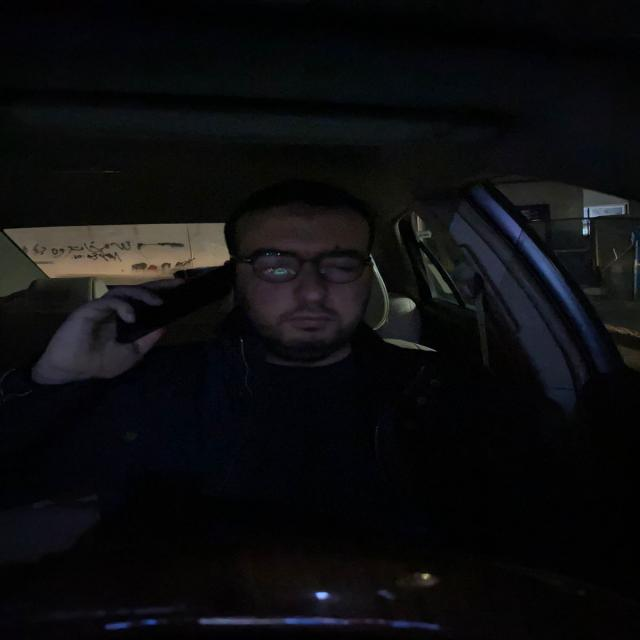mobile: (104, 274, 240, 333)
person: (228, 196, 387, 362)
